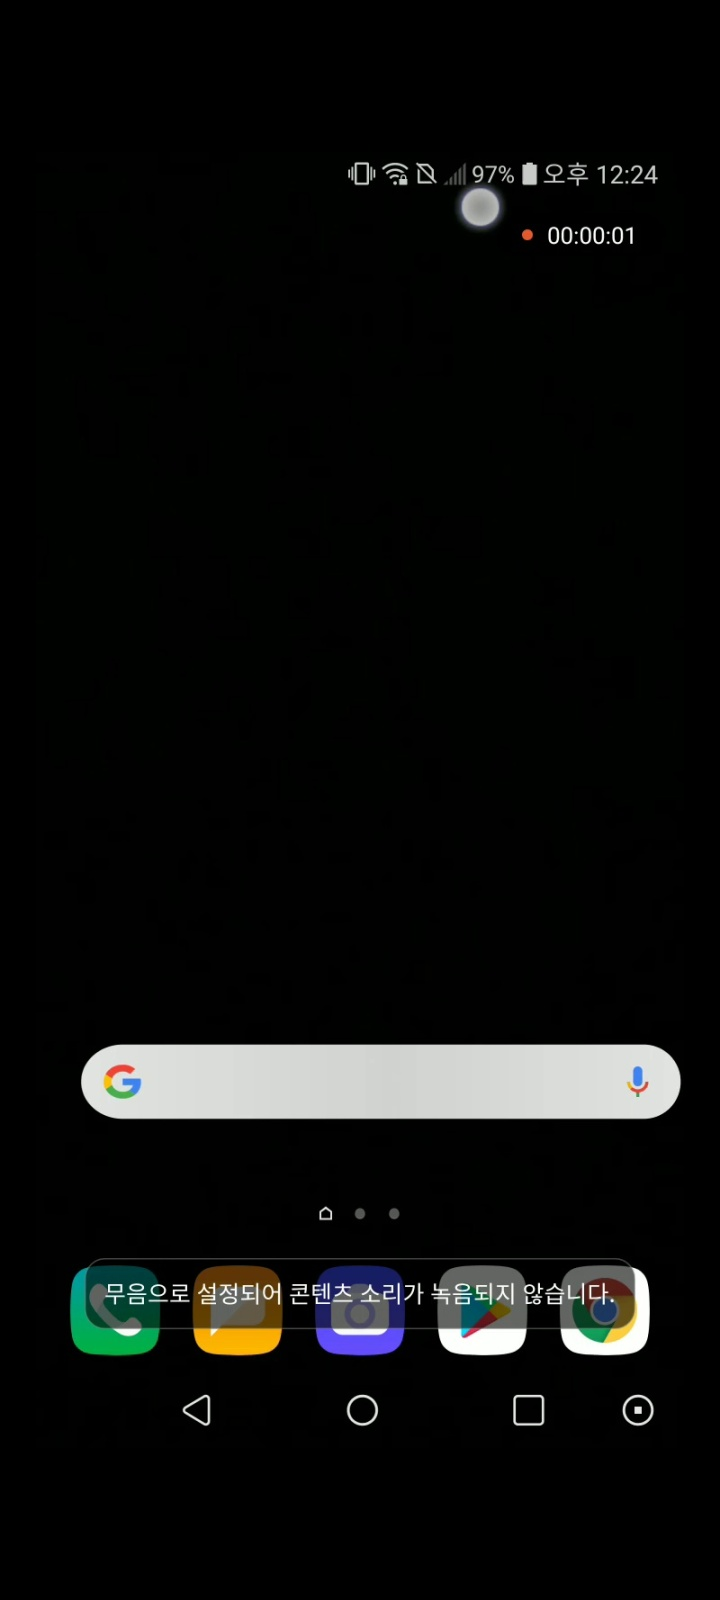Cursor: (458, 184, 503, 230)
